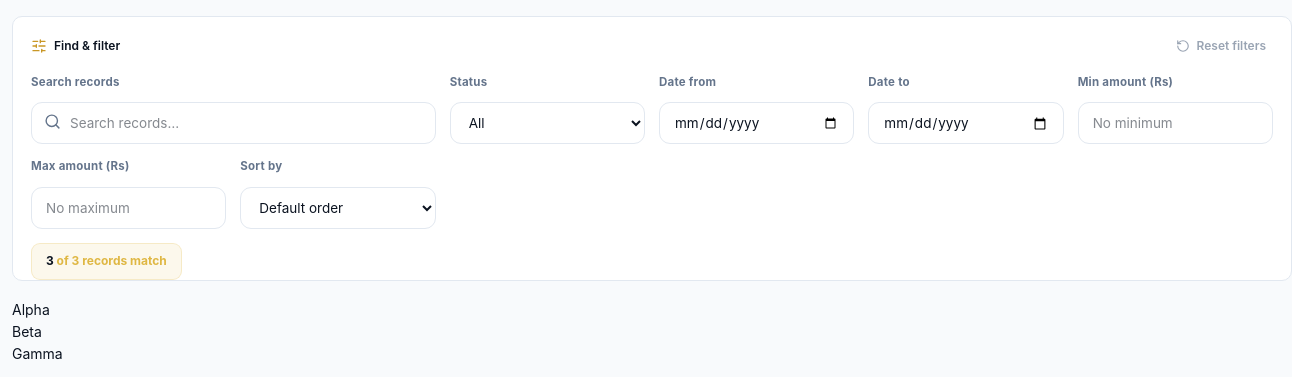
it: record filters › excludes undated records when a date bound is set and explains reversed ranges
Type "2026-09-01" into the date field labelled "Date from" at (757, 123), box 659,102 -> 854,144
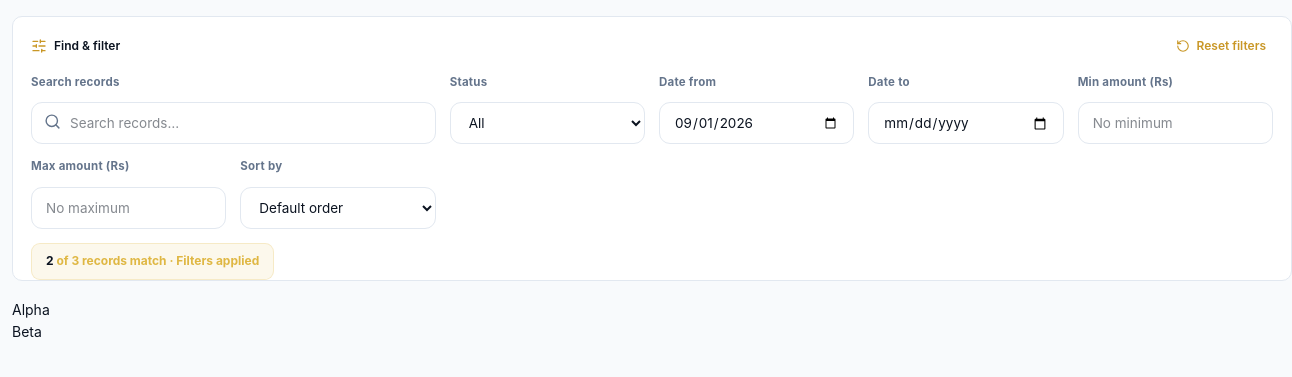
Expected: the list item "Gamma" is gone
Type "2026-08-31" into the date field labelled "Date to" at (966, 123), box 868,102 -> 1064,144
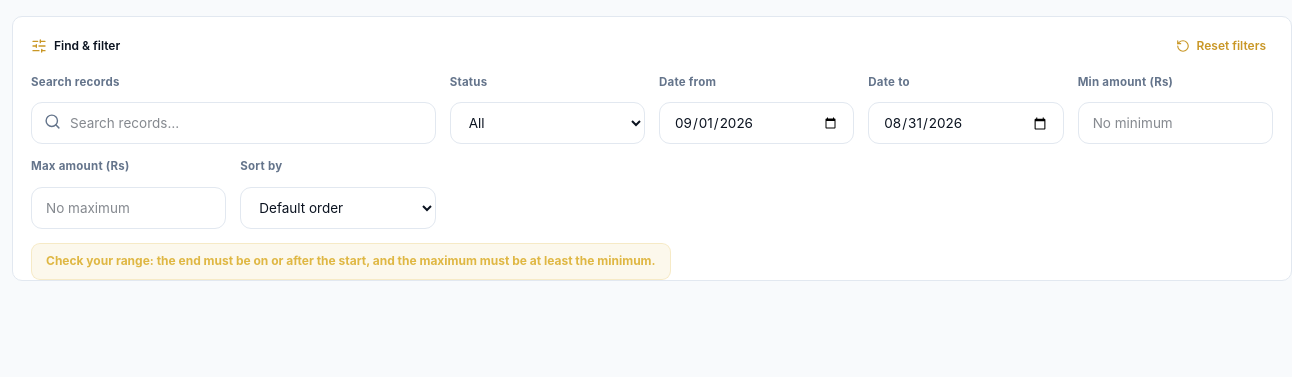
Expected: the message shows "Check your range", 46,253 -> 656,268
Expected: no list items are shown
